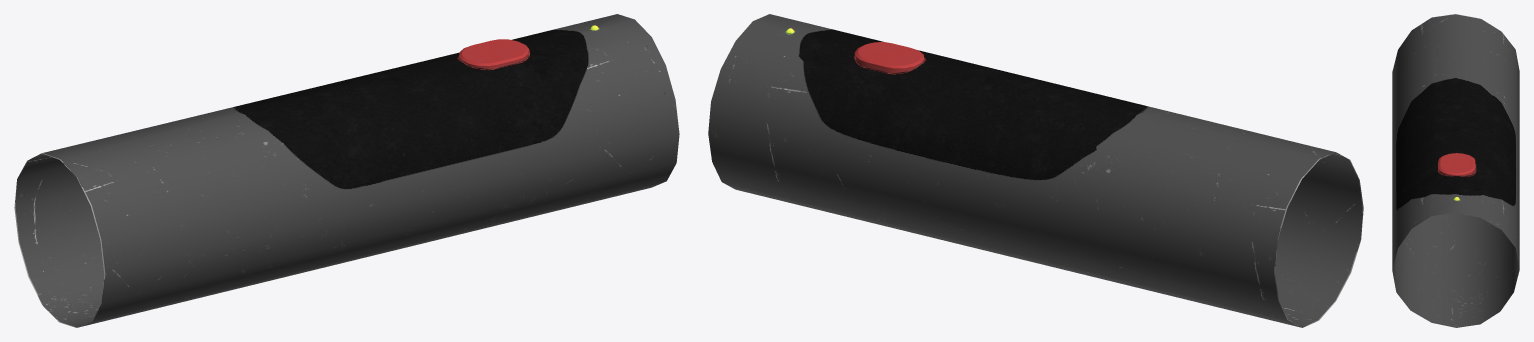
Rendered from grip_12_c_a.glb.
3 renders of one model, left to right at view 1: azimuth 30°, elevation 25°; view 2: azimuth 150°, elevation 25°; view 3: azimuth 270°, elevation 25°, orthographic. The views are drawn at different scales.
Visible parts, largest first — view 1: grip_12_c_a_lod0; view 2: grip_12_c_a_lod0; view 3: grip_12_c_a_lod0.
Part boxes in pixels (x1,y1,x2,y2): grip_12_c_a_lod0: (14, 14, 679, 327); grip_12_c_a_lod0: (708, 14, 1363, 327); grip_12_c_a_lod0: (1392, 14, 1519, 327).
Size of what is drawn, in the model's own units: 0.1058 by 0.0291 by 0.0286.
1 material, 1 textured.
